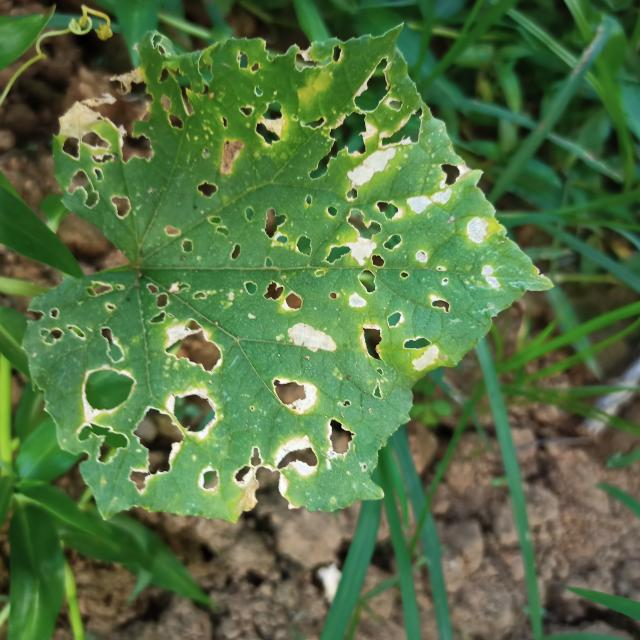disease_cucumber: (51, 74, 459, 503)
